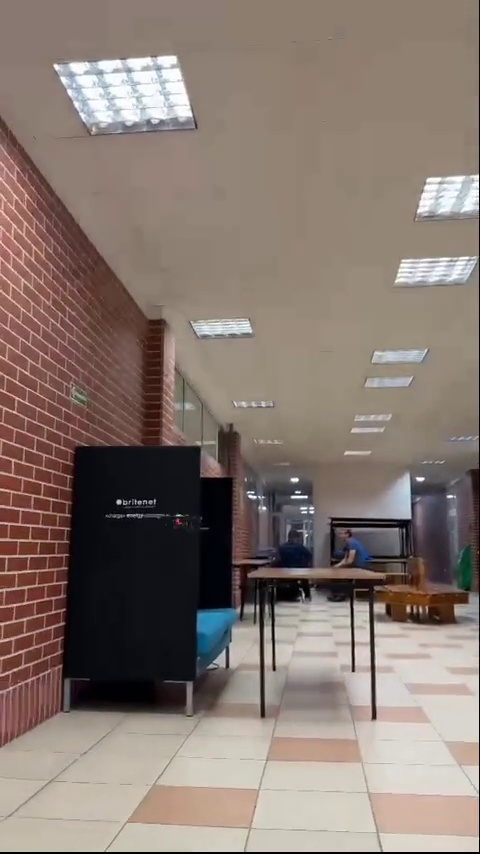drone: (164, 514, 206, 531)
no vest: (337, 525, 371, 570), (281, 530, 314, 567)
